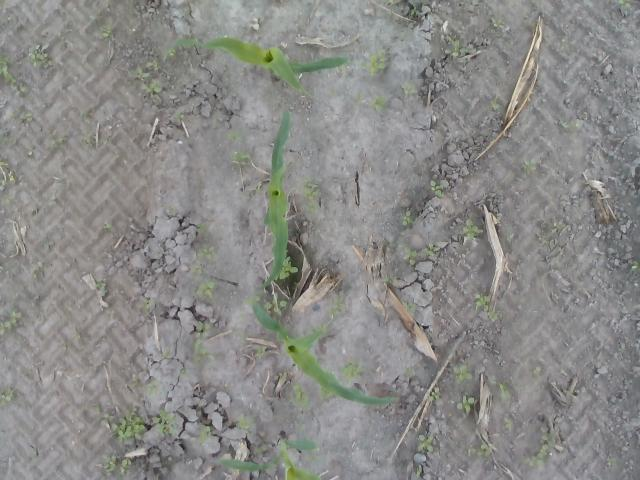Maize: (250, 298, 402, 408), (163, 38, 351, 98), (255, 112, 291, 294), (212, 431, 324, 480)
Weeds: (94, 404, 148, 444), (517, 432, 558, 467), (0, 54, 28, 96), (534, 216, 570, 246), (191, 264, 219, 302), (359, 46, 386, 80), (193, 320, 213, 364), (474, 293, 502, 322), (262, 291, 290, 319), (152, 406, 176, 438), (102, 451, 130, 476), (444, 34, 473, 57), (341, 358, 366, 384), (326, 293, 348, 322), (302, 176, 320, 210), (276, 255, 300, 280), (452, 362, 474, 385), (146, 378, 169, 400), (454, 394, 476, 416), (0, 308, 17, 336), (289, 382, 308, 407), (414, 430, 434, 453), (28, 46, 48, 68), (238, 415, 258, 437), (125, 64, 152, 79), (467, 442, 492, 458), (240, 290, 264, 306), (463, 216, 479, 240), (222, 129, 246, 144), (0, 386, 17, 407), (400, 246, 417, 266), (46, 191, 64, 209), (198, 423, 212, 446), (399, 206, 415, 226), (496, 383, 512, 402), (429, 178, 444, 198), (368, 95, 385, 112), (144, 80, 162, 96), (14, 110, 32, 126), (424, 240, 440, 257), (401, 79, 417, 96), (232, 330, 246, 348), (229, 149, 249, 161), (48, 136, 64, 151), (80, 128, 95, 144), (490, 15, 506, 30), (384, 0, 401, 14), (496, 417, 514, 430), (521, 160, 537, 174), (401, 300, 416, 314), (319, 385, 334, 399), (429, 386, 442, 402), (197, 246, 214, 258), (0, 193, 14, 207), (274, 370, 288, 384), (100, 24, 112, 40), (559, 120, 576, 131), (96, 135, 114, 145), (529, 102, 545, 113), (143, 297, 155, 311), (490, 98, 502, 112), (615, 0, 633, 9), (354, 96, 364, 112), (408, 0, 418, 16), (559, 34, 570, 48), (146, 59, 160, 70), (403, 366, 415, 378), (81, 110, 92, 123), (383, 274, 395, 285), (326, 87, 338, 98), (30, 265, 39, 279), (336, 64, 350, 73), (95, 278, 106, 289), (254, 347, 264, 359), (631, 260, 640, 273), (415, 464, 423, 478), (375, 366, 386, 376), (178, 368, 188, 379), (196, 223, 208, 232), (164, 48, 177, 56), (607, 456, 617, 466), (175, 112, 185, 122), (304, 88, 316, 96), (256, 182, 264, 194), (256, 444, 266, 453), (162, 352, 173, 360), (103, 223, 112, 232), (532, 366, 540, 376), (240, 66, 248, 76), (0, 180, 6, 191), (310, 448, 320, 454), (220, 34, 230, 40), (427, 15, 433, 24), (239, 311, 244, 321), (255, 331, 261, 338), (0, 160, 5, 167)
